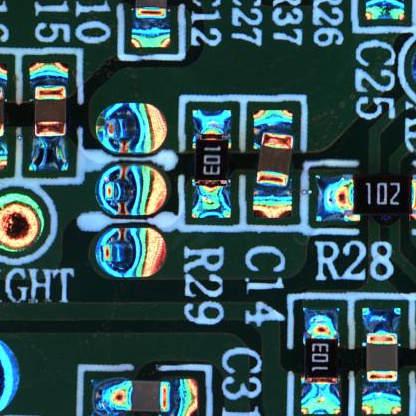spot: (86, 223, 176, 281), (88, 163, 175, 221), (92, 96, 168, 157)
